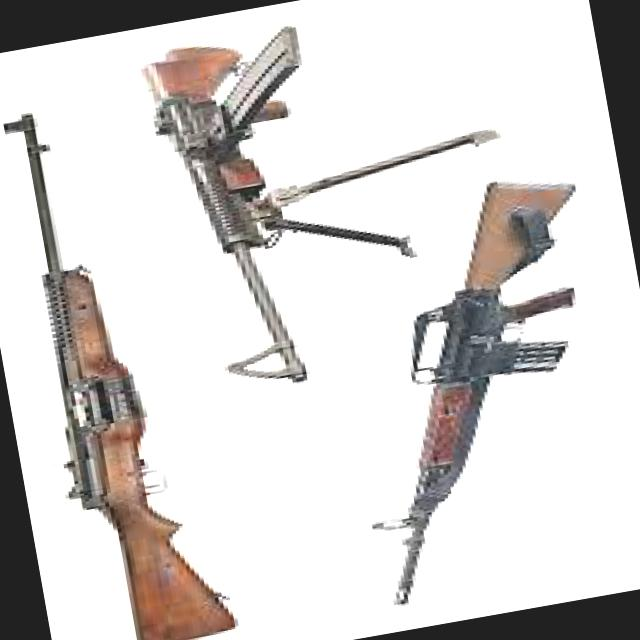long weapon: (304, 158, 639, 614), (0, 81, 251, 639), (122, 9, 398, 407)
